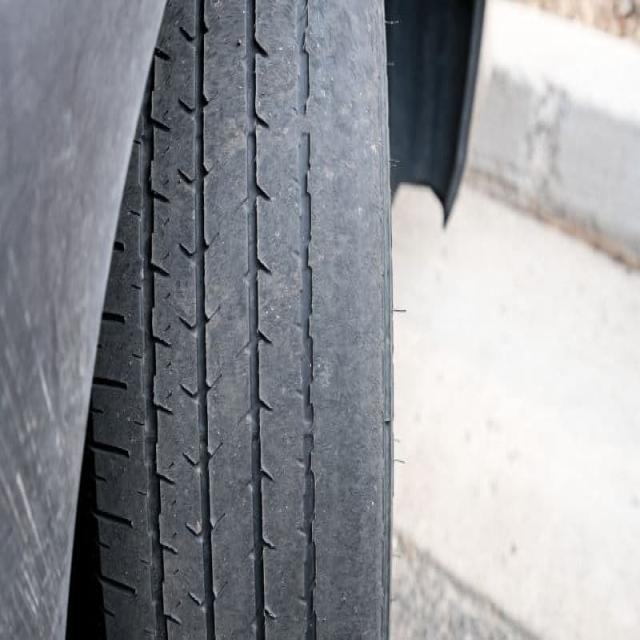Flat spots: (268, 0, 382, 640)
